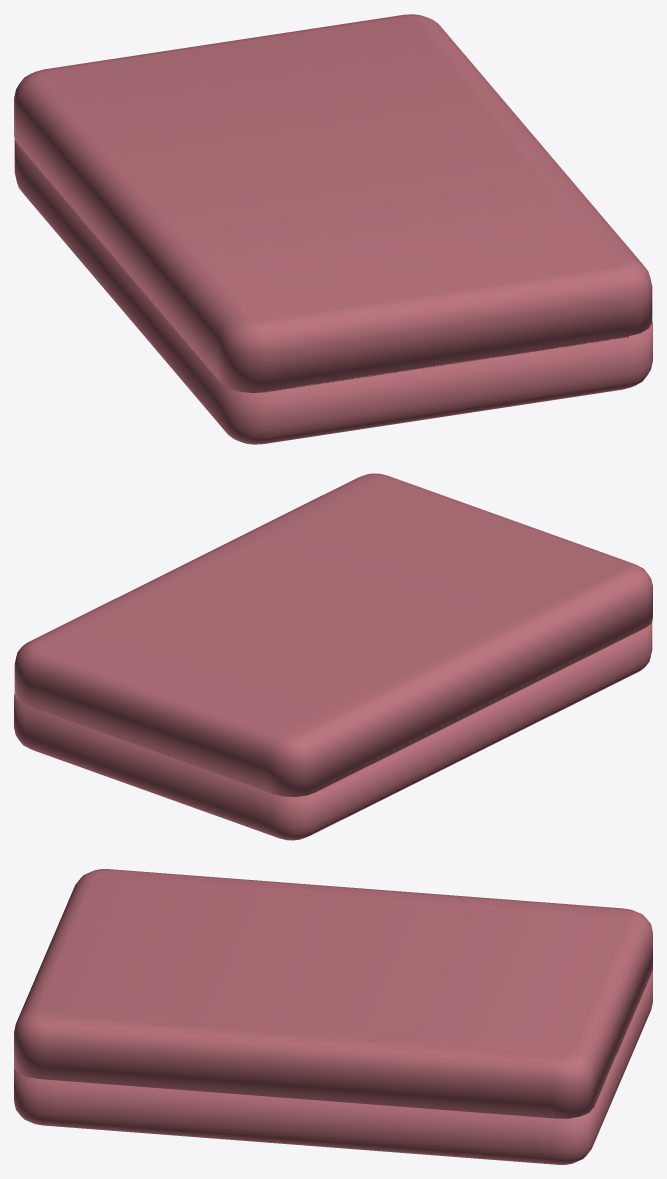
Rendered from laptop-rose.glb.
The picture shows the model from 3 angles, top to bottom: view 1: azimuth 30°, elevation 25°; view 2: azimuth 150°, elevation 25°; view 3: azimuth 270°, elevation 25°; orthographic projection. The views are drawn at different scales.
Visible parts, largest first — view 1: Plane.001, Plane; view 2: Plane.001, Plane; view 3: Plane.001, Plane.
Part boxes in pixels (x1,y1,x2,y2): Plane.001: (14, 14, 652, 392); Plane: (14, 139, 652, 444); Plane.001: (14, 473, 652, 796); Plane: (14, 621, 652, 840); Plane.001: (14, 869, 652, 1118); Plane: (14, 970, 652, 1164).
Bounding box in the file's own units: 0.7629 × 0.1838 × 1.01.
